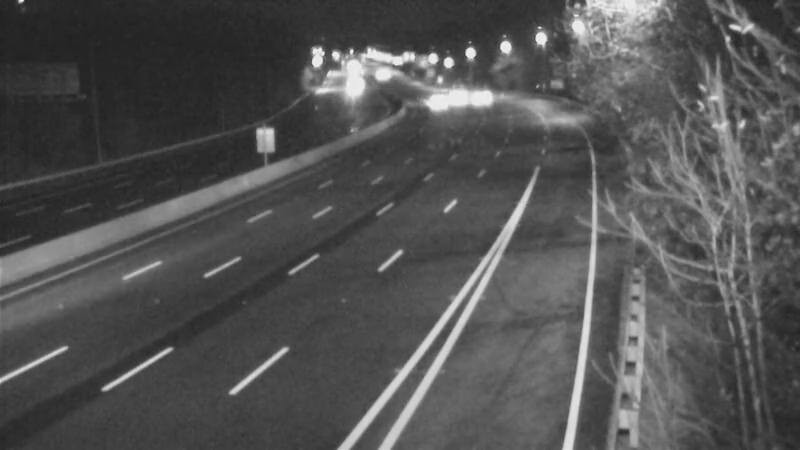vehicle: (429, 72, 479, 122), (410, 78, 460, 128), (454, 72, 504, 122), (330, 63, 380, 113)
